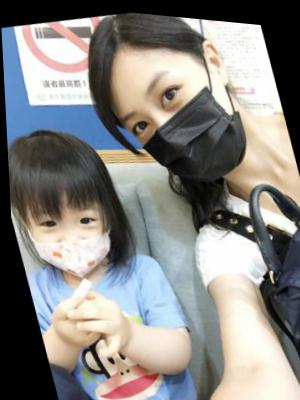OK: (105, 45, 257, 195)
WRONG: (17, 185, 120, 288)
